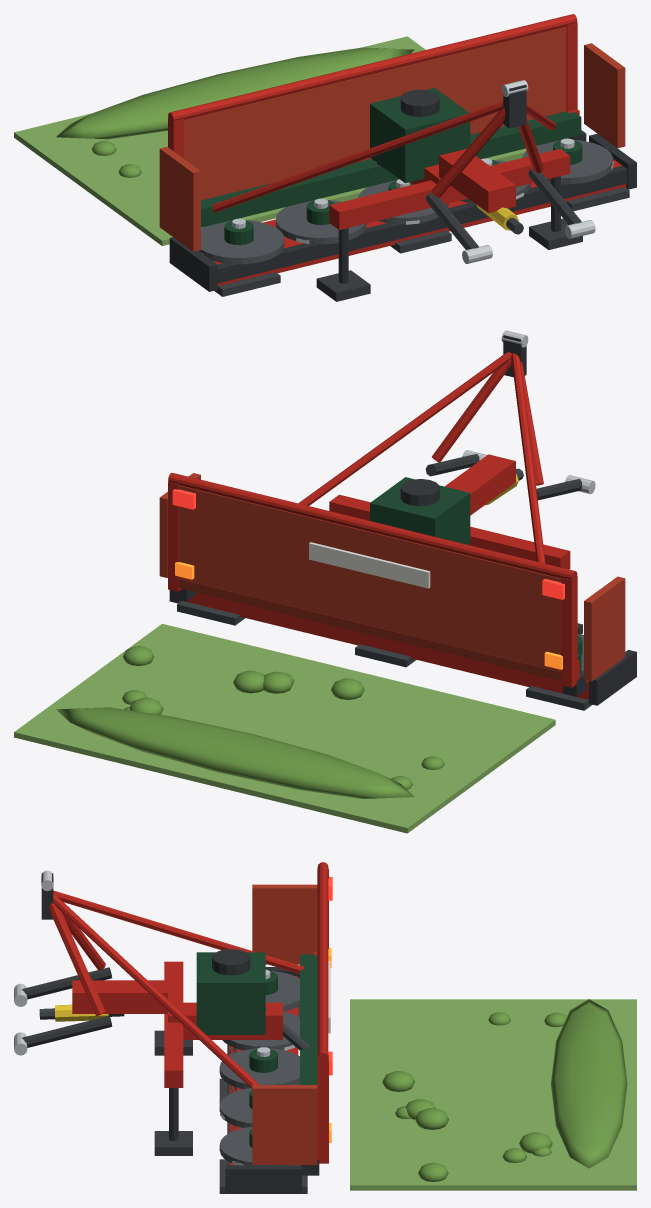
File: disc_mower.glb
3 renders of one model, top to bottom at view 1: azimuth 30°, elevation 25°; view 2: azimuth 150°, elevation 25°; view 3: azimuth 270°, elevation 25°, orthographic. The views are drawn at different scales.
Visible parts, largest first — view 1: MowerBody, MowerProps, MowerDiscA, MowerDiscB, MowerDiscE, MowerDiscC; view 2: MowerBody, MowerProps; view 3: MowerProps, MowerBody, MowerDiscC, MowerDiscA, MowerDiscE, MowerDiscD, MowerDiscB.
Part boxes in pixels (bbox=[...]): MowerBody: bbox=[159, 14, 636, 301]; MowerProps: bbox=[14, 36, 526, 245]; MowerDiscA: bbox=[199, 218, 284, 264]; MowerDiscB: bbox=[276, 198, 366, 244]; MowerDiscE: bbox=[522, 138, 613, 184]; MowerDiscC: bbox=[358, 179, 448, 224]; MowerBody: bbox=[159, 330, 636, 710]; MowerProps: bbox=[14, 623, 555, 833]; MowerProps: bbox=[350, 999, 636, 1190]; MowerBody: bbox=[14, 862, 332, 1193]; MowerDiscC: bbox=[219, 1047, 299, 1089]; MowerDiscA: bbox=[265, 969, 299, 1011]; MowerDiscE: bbox=[219, 1126, 290, 1165]; MowerDiscD: bbox=[219, 1088, 252, 1127]; MowerDiscB: bbox=[222, 1011, 299, 1050].
Bounding box in the file's own units: 2.53 × 1.28 × 3.26.
